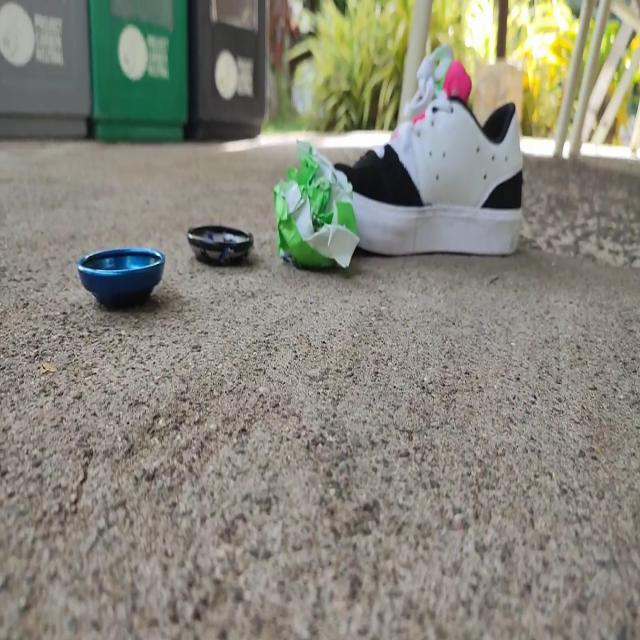paper: (270, 126, 358, 278)
